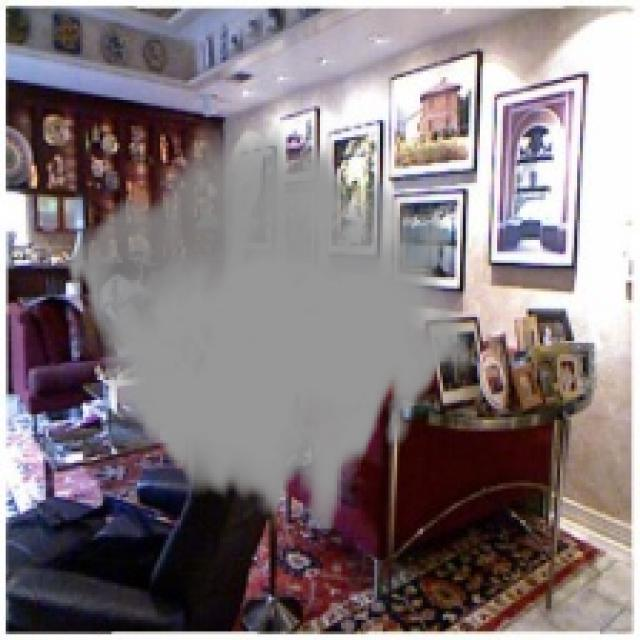Smoke: (66, 120, 472, 529)
